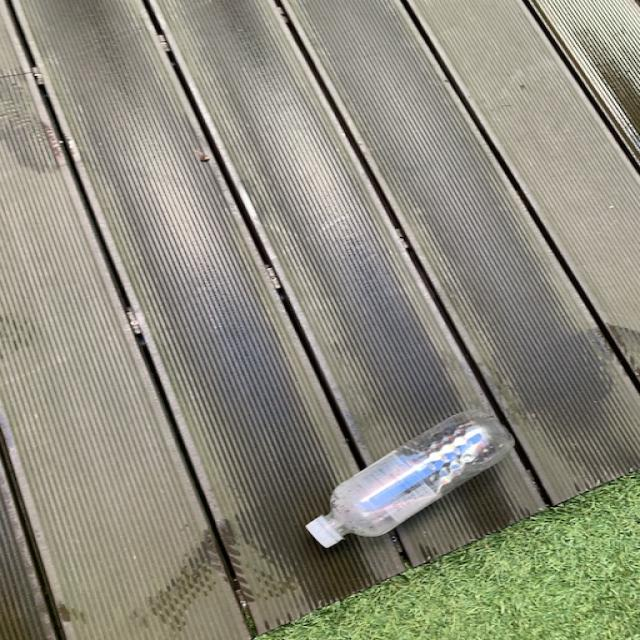Waste: (306, 410, 515, 549)
